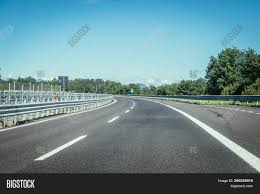strada: (3, 96, 260, 172)
